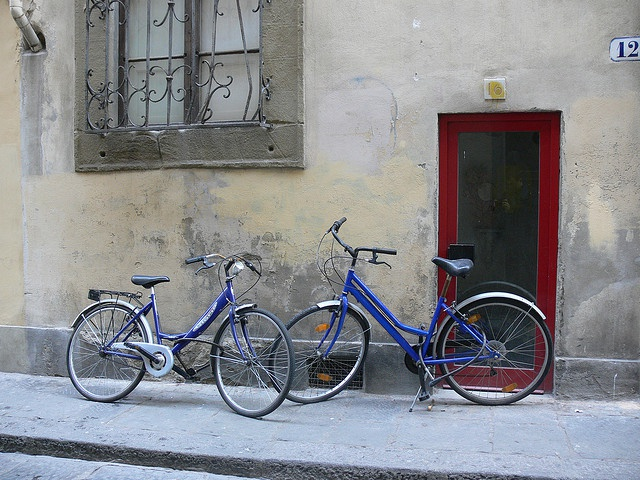non-vehicle: (271, 216, 553, 408), (66, 251, 295, 417)
